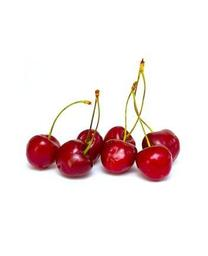cherry: (55, 139, 93, 179), (136, 146, 173, 181), (100, 140, 136, 174), (26, 134, 59, 170), (142, 130, 180, 161), (105, 126, 137, 158), (76, 129, 102, 163)
